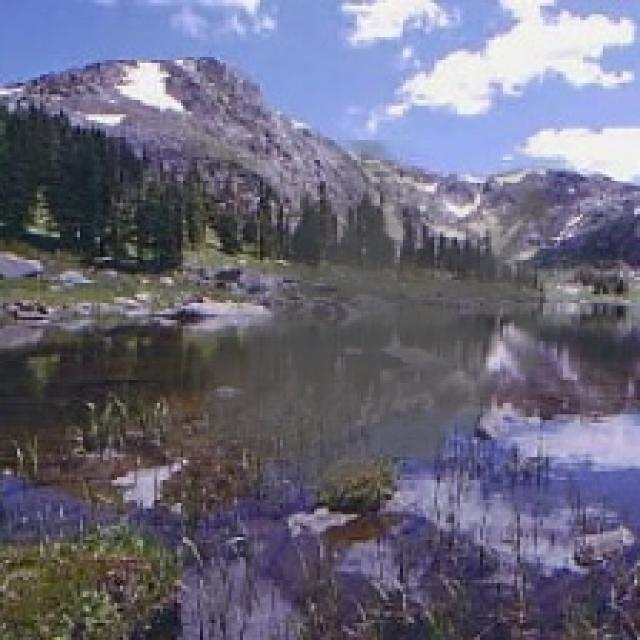Smoke: (192, 140, 572, 526)
